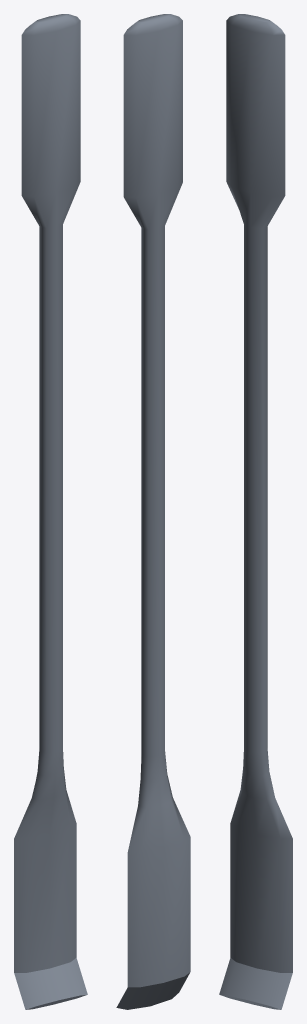
File: misc_spatula.glb
The picture shows the model from 3 angles, left to right: view 1: azimuth 30°, elevation 25°; view 2: azimuth 210°, elevation 25°; view 3: azimuth 330°, elevation 25°; orthographic projection.
Visible parts, largest first — view 1: misc_spatula; view 2: misc_spatula; view 3: misc_spatula.
Boxes of the visible parts, bbox=[...] form: misc_spatula: bbox=[14, 14, 87, 1009]; misc_spatula: bbox=[116, 14, 190, 1009]; misc_spatula: bbox=[219, 14, 292, 1009].
Bounding box in the file's own units: 1.75 × 26.4 × 0.9.
1 material, 1 textured.
